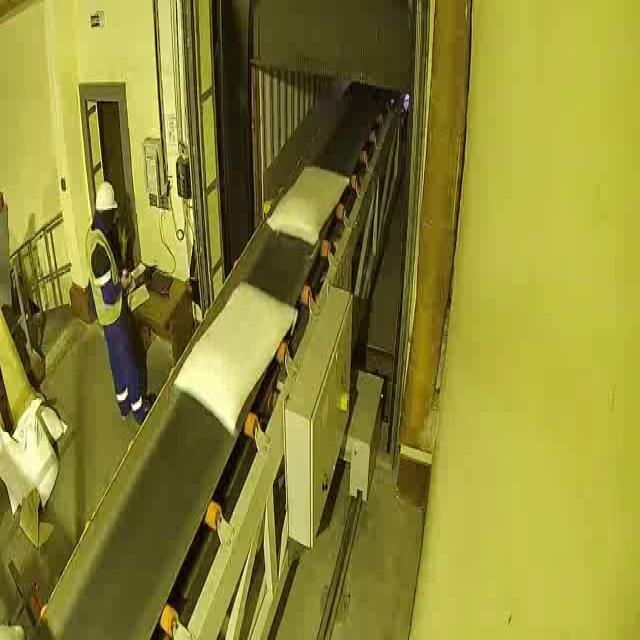bag: (172, 276, 298, 438), (266, 160, 350, 247)
